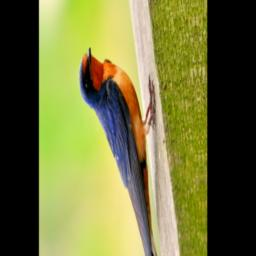Swallow: (75, 32, 168, 256)
